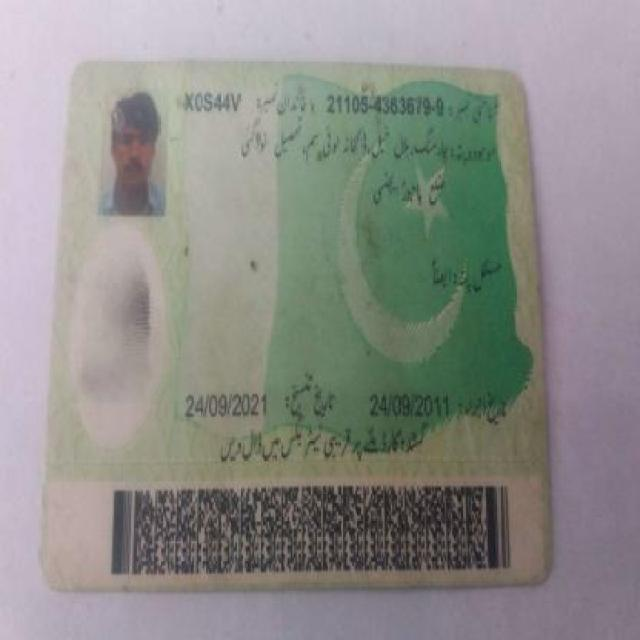Back: (50, 56, 552, 590)
